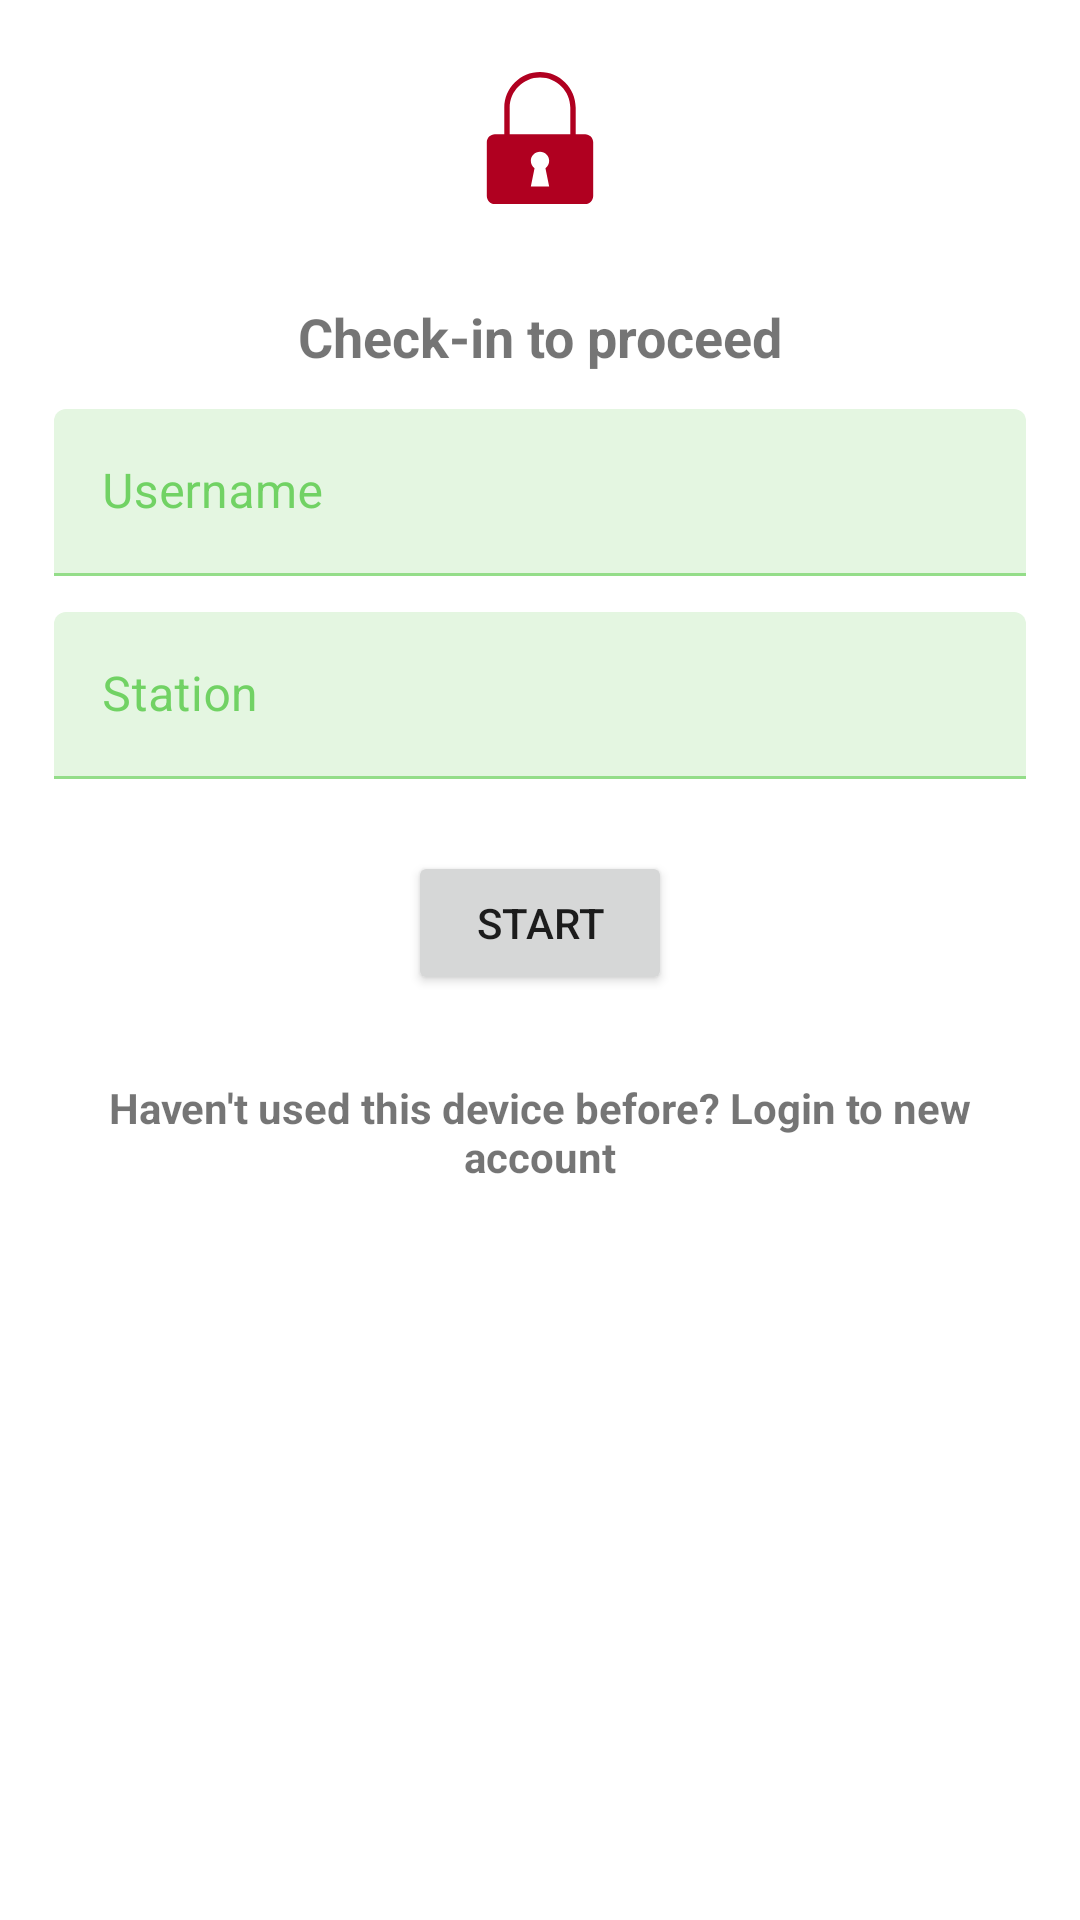

Named icons in this screenshot (1080 x 1920) and their centers, [x,y]:
padlock lock: [540,138]
